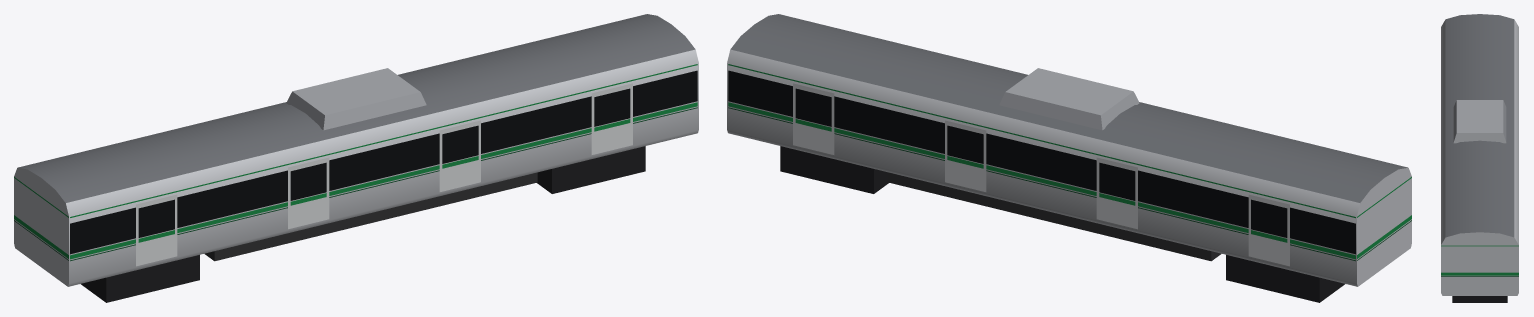
File: r122_T_far.glb
3 views of the same model, side by side, from view 1: azimuth 30°, elevation 25°; view 2: azimuth 150°, elevation 25°; view 3: azimuth 270°, elevation 25° (orthographic). The views are drawn at different scales.
Visible parts, largest first — view 1: far_body, far_detail, far_roof_under, opt_ac; view 2: far_body, far_detail, far_roof_under, opt_ac; view 3: far_body, opt_ac, far_roof_under.
Boxes of the visible parts, x1=… form: far_body: x1=14, y1=14, x2=698, y2=286; far_detail: x1=70, y1=64, x2=697, y2=266; far_roof_under: x1=81, y1=146, x2=645, y2=302; opt_ac: x1=286, y1=68, x2=426, y2=130; far_body: x1=727, y1=14, x2=1411, y2=286; far_detail: x1=728, y1=64, x2=1355, y2=266; far_roof_under: x1=780, y1=146, x2=1344, y2=302; opt_ac: x1=999, y1=68, x2=1139, y2=130; far_body: x1=1441, y1=14, x2=1518, y2=295; opt_ac: x1=1453, y1=100, x2=1506, y2=143; far_roof_under: x1=1452, y1=296, x2=1507, y2=302.
Bounding box in the file's own units: 19.5 × 3.88 × 3.01.
